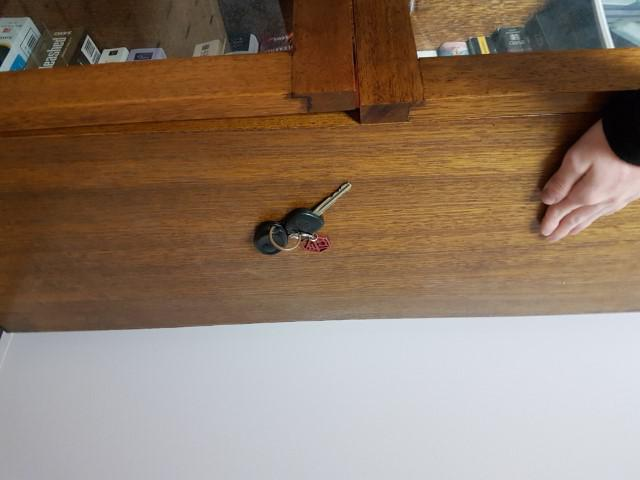key: (279, 179, 355, 239)
